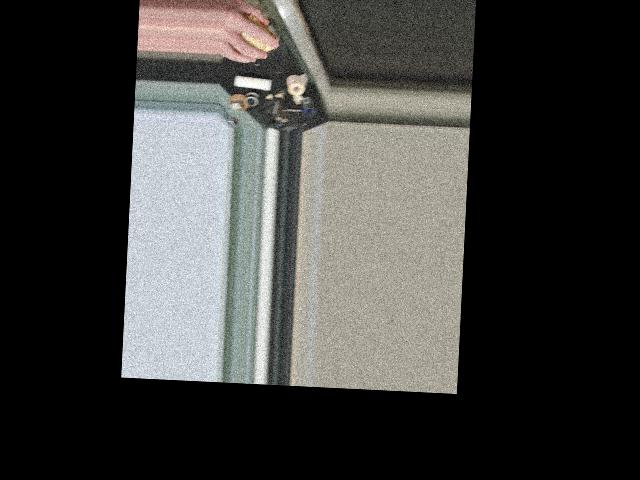onion: (232, 11, 278, 55)
